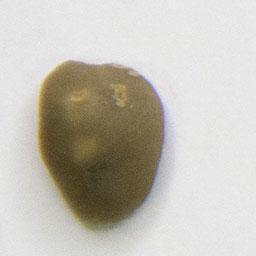premium: (33, 55, 168, 227)
